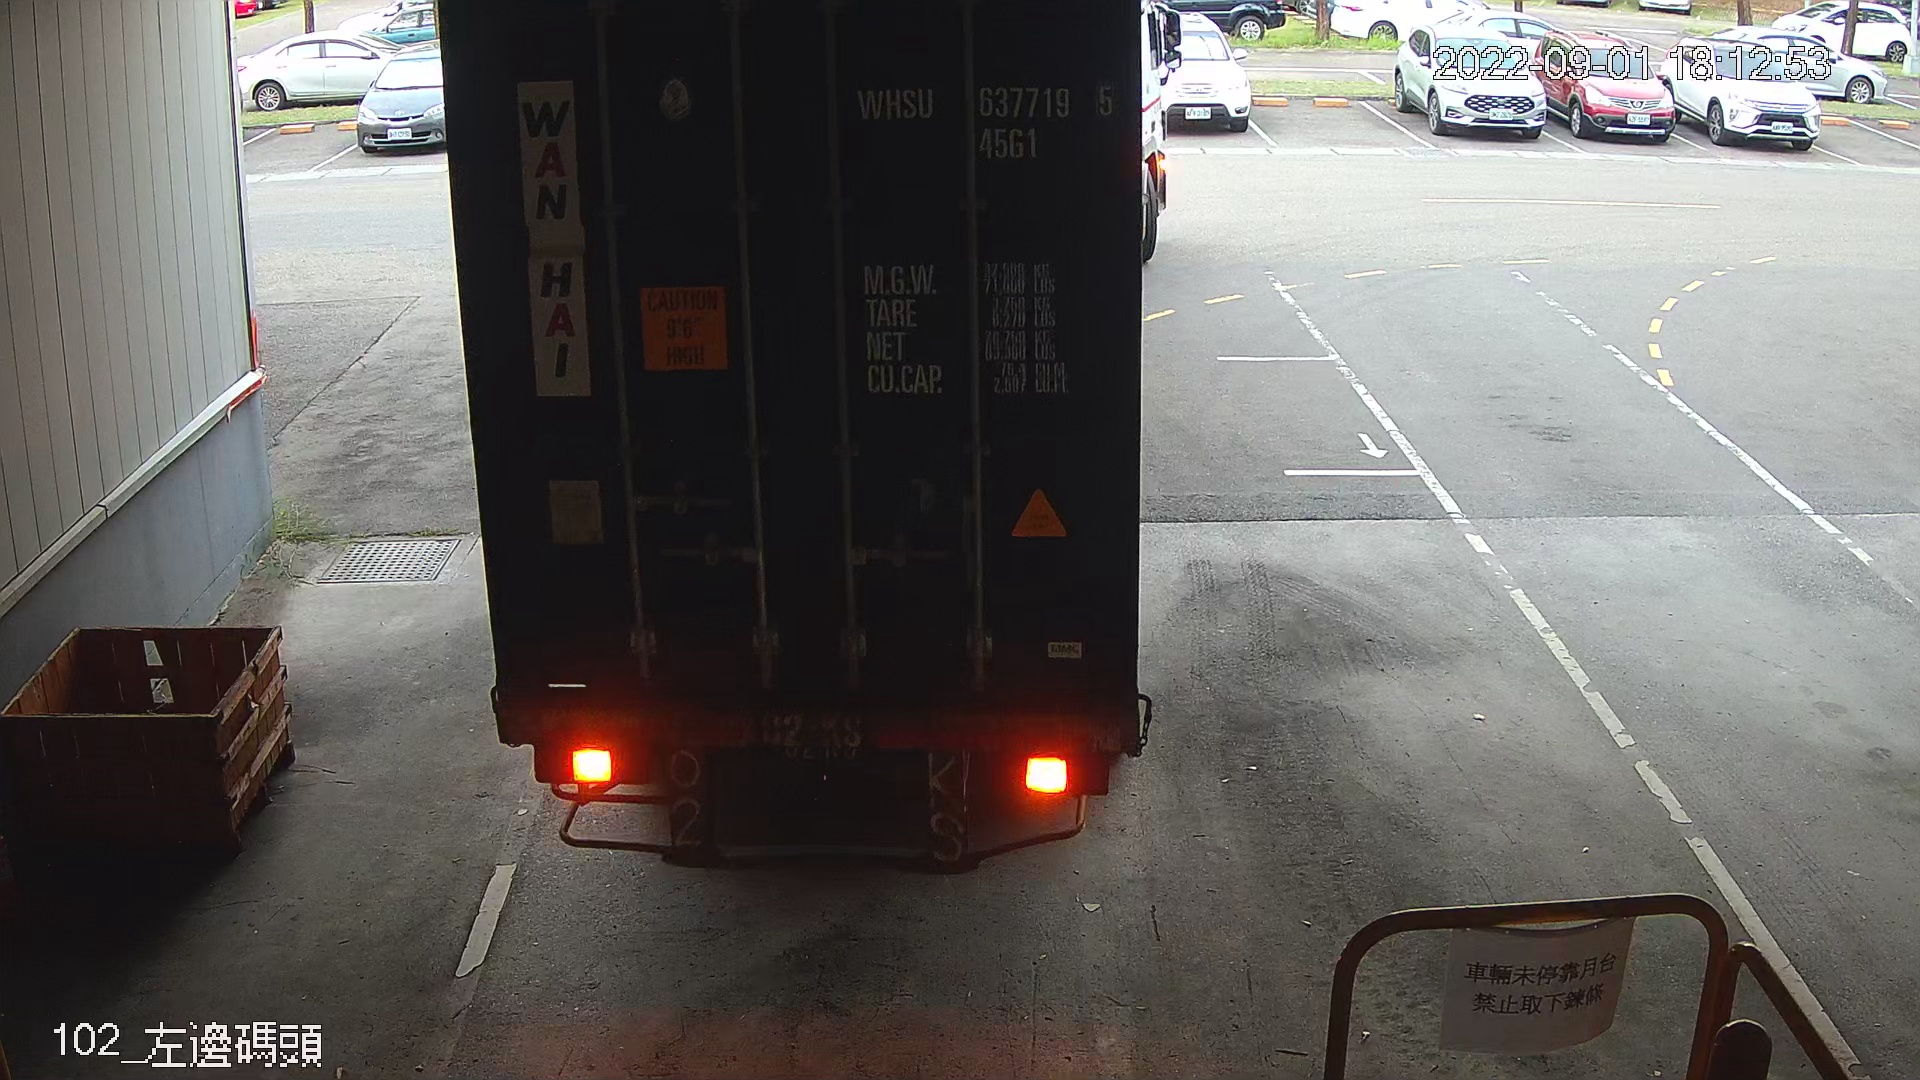container: (844, 70, 1124, 170)
